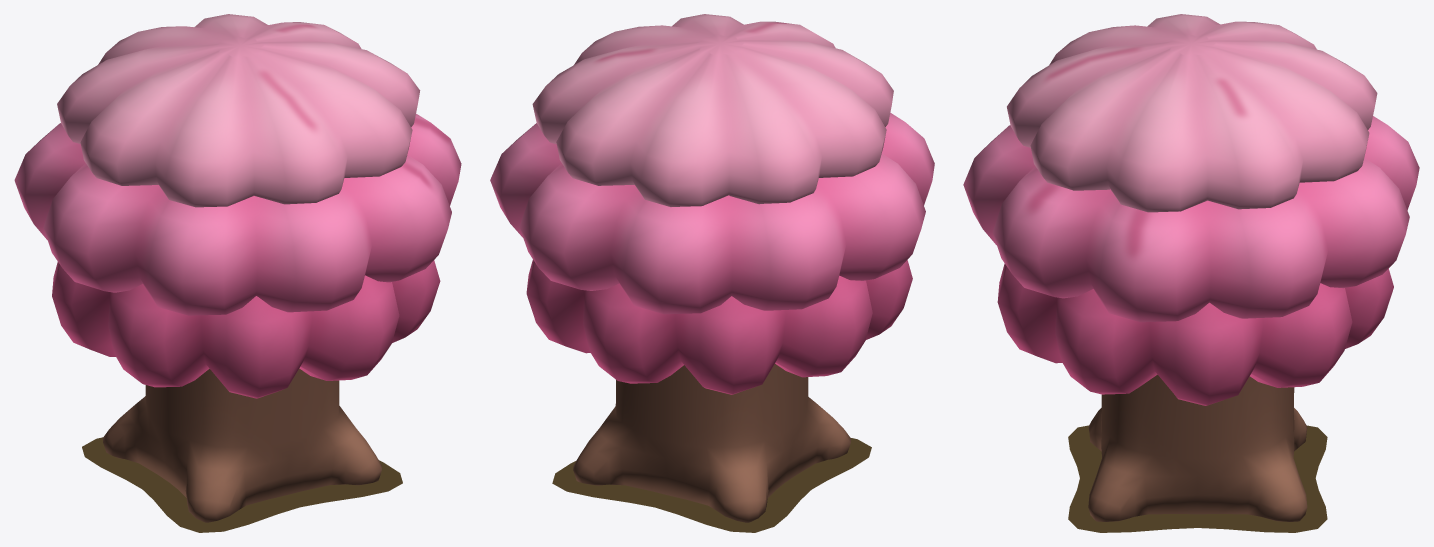
The model's file is SakuraTree01.fbx.
3 renders of one model, left to right at view 1: azimuth 30°, elevation 25°; view 2: azimuth 150°, elevation 25°; view 3: azimuth 270°, elevation 25°, orthographic. The views are drawn at different scales.
Parts seen in each view (by area): view 1: polySurface4, polySurface2, polySurface1; view 2: polySurface4, polySurface2, polySurface1; view 3: polySurface4, polySurface2, polySurface1.
Boxes of the visible parts, x1,y1,x2,y2 form: polySurface4: (14, 14, 461, 398); polySurface2: (102, 368, 381, 522); polySurface1: (82, 437, 402, 532); polySurface4: (490, 14, 934, 394); polySurface2: (573, 364, 850, 522); polySurface1: (552, 438, 871, 532); polySurface4: (963, 14, 1419, 405); polySurface2: (1088, 374, 1307, 521); polySurface1: (1068, 425, 1327, 532).
Bounding box in the file's own units: 299 × 315 × 299.
